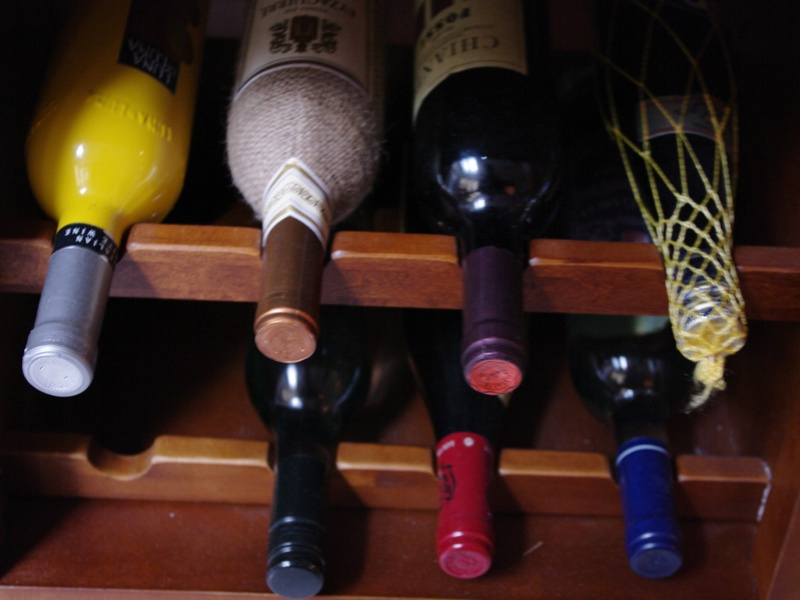wine: (589, 2, 787, 407), (10, 4, 197, 407), (404, 2, 573, 400), (217, 2, 395, 373), (564, 308, 754, 595), (403, 306, 541, 600), (239, 356, 379, 600)
